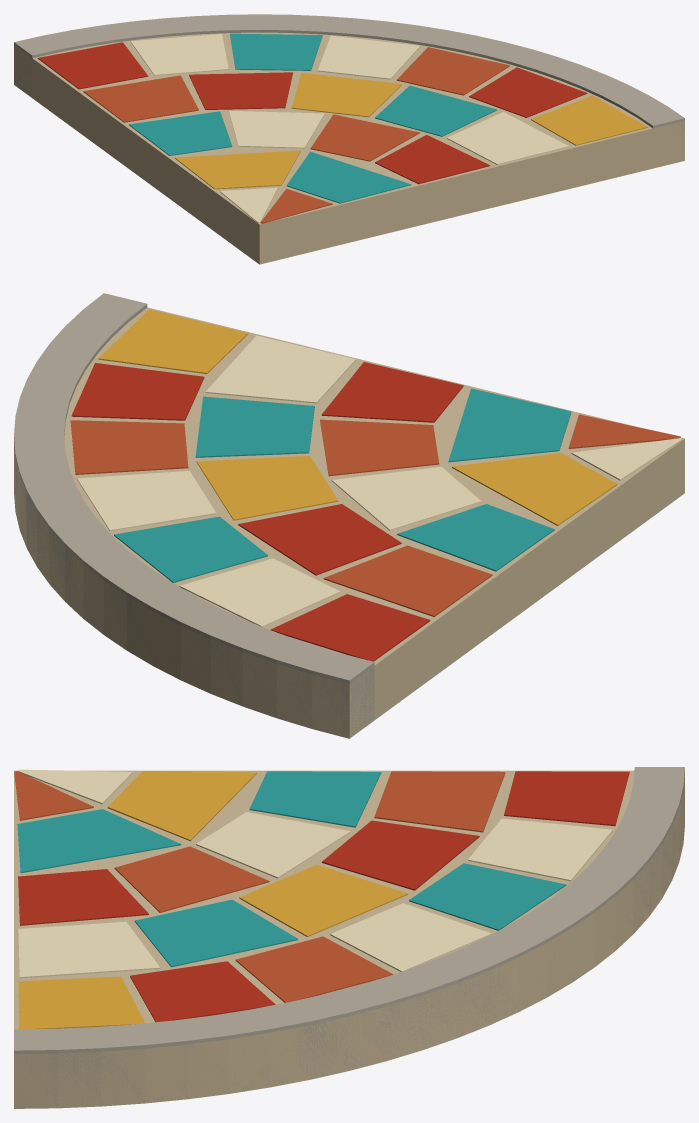
Rendered from suelo-aceras-ladrillo-acera-curva-interior.glb.
The picture shows the model from 3 angles, top to bottom: view 1: azimuth 30°, elevation 25°; view 2: azimuth 150°, elevation 25°; view 3: azimuth 270°, elevation 25°; orthographic projection. The views are drawn at different scales.
Visible parts, largest first — view 1: acera_curva_interior_AceraBase, acera_curva_interior_Bordillo, acera_curva_interior_BaldosaCrema, acera_curva_interior_BaldosaTurquesa, acera_curva_interior_BaldosaRoja, acera_curva_interior_BaldosaTerracota, acera_curva_interior_BaldosaMostaza; view 2: acera_curva_interior_AceraBase, acera_curva_interior_Bordillo, acera_curva_interior_BaldosaCrema, acera_curva_interior_BaldosaTurquesa, acera_curva_interior_BaldosaRoja, acera_curva_interior_BaldosaTerracota, acera_curva_interior_BaldosaMostaza; view 3: acera_curva_interior_AceraBase, acera_curva_interior_Bordillo, acera_curva_interior_BaldosaCrema, acera_curva_interior_BaldosaTurquesa, acera_curva_interior_BaldosaRoja, acera_curva_interior_BaldosaTerracota, acera_curva_interior_BaldosaMostaza.
Boxes of the visible parts, x1,y1,x2,y2 form: acera_curva_interior_AceraBase: [14, 32, 684, 264]; acera_curva_interior_Bordillo: [14, 14, 684, 160]; acera_curva_interior_BaldosaCrema: [130, 34, 568, 223]; acera_curva_interior_BaldosaTurquesa: [129, 33, 496, 203]; acera_curva_interior_BaldosaRoja: [37, 42, 587, 184]; acera_curva_interior_BaldosaTerracota: [83, 47, 509, 223]; acera_curva_interior_BaldosaMostaza: [175, 72, 647, 189]; acera_curva_interior_AceraBase: [14, 307, 684, 738]; acera_curva_interior_Bordillo: [14, 293, 374, 738]; acera_curva_interior_BaldosaCrema: [77, 335, 682, 626]; acera_curva_interior_BaldosaTurquesa: [114, 388, 571, 582]; acera_curva_interior_BaldosaRoja: [71, 362, 463, 661]; acera_curva_interior_BaldosaTerracota: [70, 414, 680, 616]; acera_curva_interior_BaldosaMostaza: [98, 309, 617, 525]; acera_curva_interior_AceraBase: [14, 770, 684, 1108]; acera_curva_interior_Bordillo: [14, 767, 684, 1108]; acera_curva_interior_BaldosaCrema: [18, 769, 612, 978]; acera_curva_interior_BaldosaTurquesa: [17, 771, 566, 967]; acera_curva_interior_BaldosaRoja: [18, 771, 629, 1022]; acera_curva_interior_BaldosaTerracota: [14, 771, 505, 1002]; acera_curva_interior_BaldosaMostaza: [18, 771, 408, 1029].
Size of the model in its own units: 2 by 0.192 by 2.
